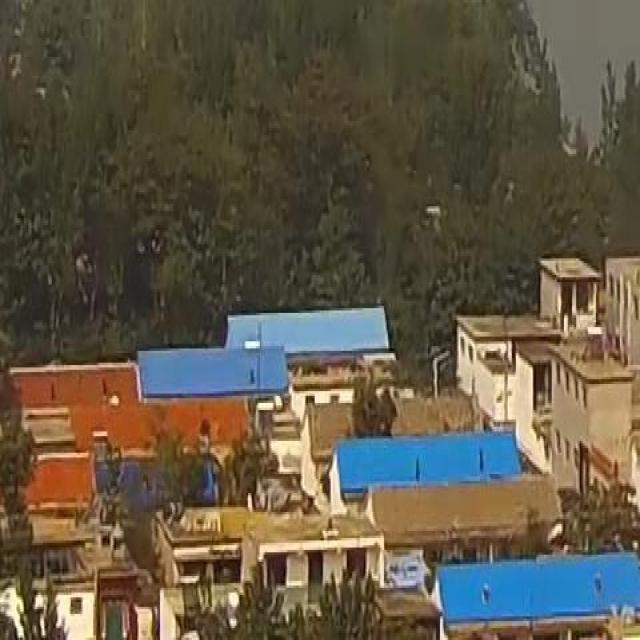other: (2, 353, 250, 477)
